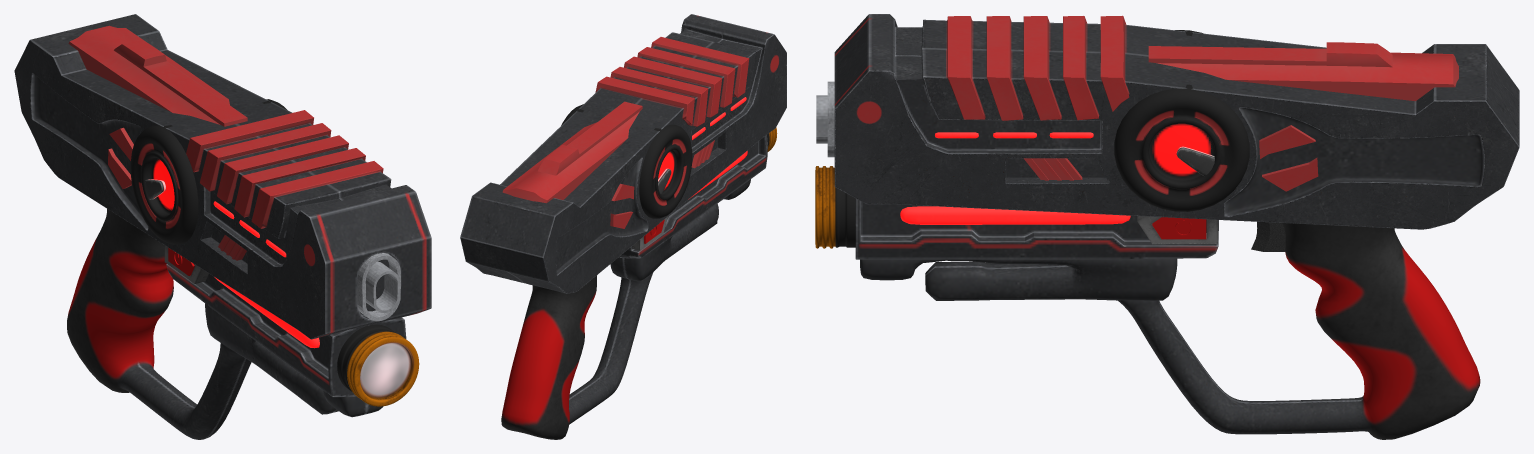
Rendered from Pistola Dual Texturas.fbx.
3 renders of one model, left to right at view 1: azimuth 30°, elevation 25°; view 2: azimuth 150°, elevation 25°; view 3: azimuth 270°, elevation 25°, orthographic. The views are drawn at different scales.
Visible parts, largest first — view 1: Retopo_Cube.002, Cube.001, Cube.013, Circle.002, Cube.011, Circle.007, Cube.010, Circle.010, Circle.009, Cube.002, Circle.008, Cube.014 (+1 smaller); view 2: Retopo_Cube.002, Cube.001, Cube.013, Circle.002, Cube.011, Cube.010, Cube.002, Circle.008; view 3: Retopo_Cube.002, Cube.001, Circle.002, Cube.011, Cube.013, Cube.010, Cube.014, Circle.007, Cube.002, Circle.008, Cube.012, Cube.017 (+1 smaller).
Boxes of the visible parts, x1,y1,x2,y2 form: Retopo_Cube.002: [14, 14, 431, 339]; Cube.001: [67, 209, 251, 439]; Cube.013: [68, 25, 247, 126]; Circle.002: [130, 99, 286, 244]; Cube.011: [166, 264, 406, 397]; Circle.007: [337, 324, 419, 406]; Cube.010: [205, 303, 383, 417]; Circle.010: [365, 261, 399, 312]; Circle.009: [357, 253, 400, 321]; Cube.002: [108, 127, 133, 188]; Circle.008: [164, 245, 208, 283]; Cube.014: [214, 277, 319, 348]; Retopo_Cube.002: [460, 14, 786, 293]; Cube.001: [501, 272, 653, 439]; Cube.013: [502, 101, 642, 203]; Circle.002: [561, 104, 692, 218]; Cube.011: [618, 135, 767, 258]; Cube.010: [610, 179, 750, 281]; Cube.002: [610, 183, 634, 228]; Circle.008: [631, 217, 667, 250]; Retopo_Cube.002: [834, 14, 1519, 229]; Cube.001: [1118, 223, 1480, 439]; Circle.002: [1114, 30, 1249, 211]; Cube.011: [855, 199, 1218, 259]; Cube.013: [1148, 42, 1458, 101]; Cube.010: [860, 258, 1177, 300]; Cube.014: [900, 206, 1130, 224]; Circle.007: [815, 166, 855, 248]; Cube.002: [1259, 125, 1318, 191]; Circle.008: [1137, 216, 1217, 244]; Cube.012: [1023, 158, 1082, 180]; Cube.017: [1251, 221, 1285, 251].
Size of the model in its own units: 86.78 by 232 by 379.
Materials: 1 (1 with a texture image).
